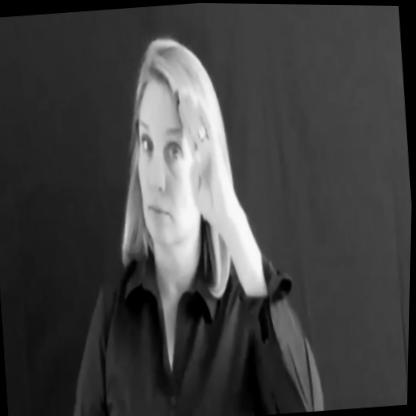Hello: (120, 5, 256, 261)
